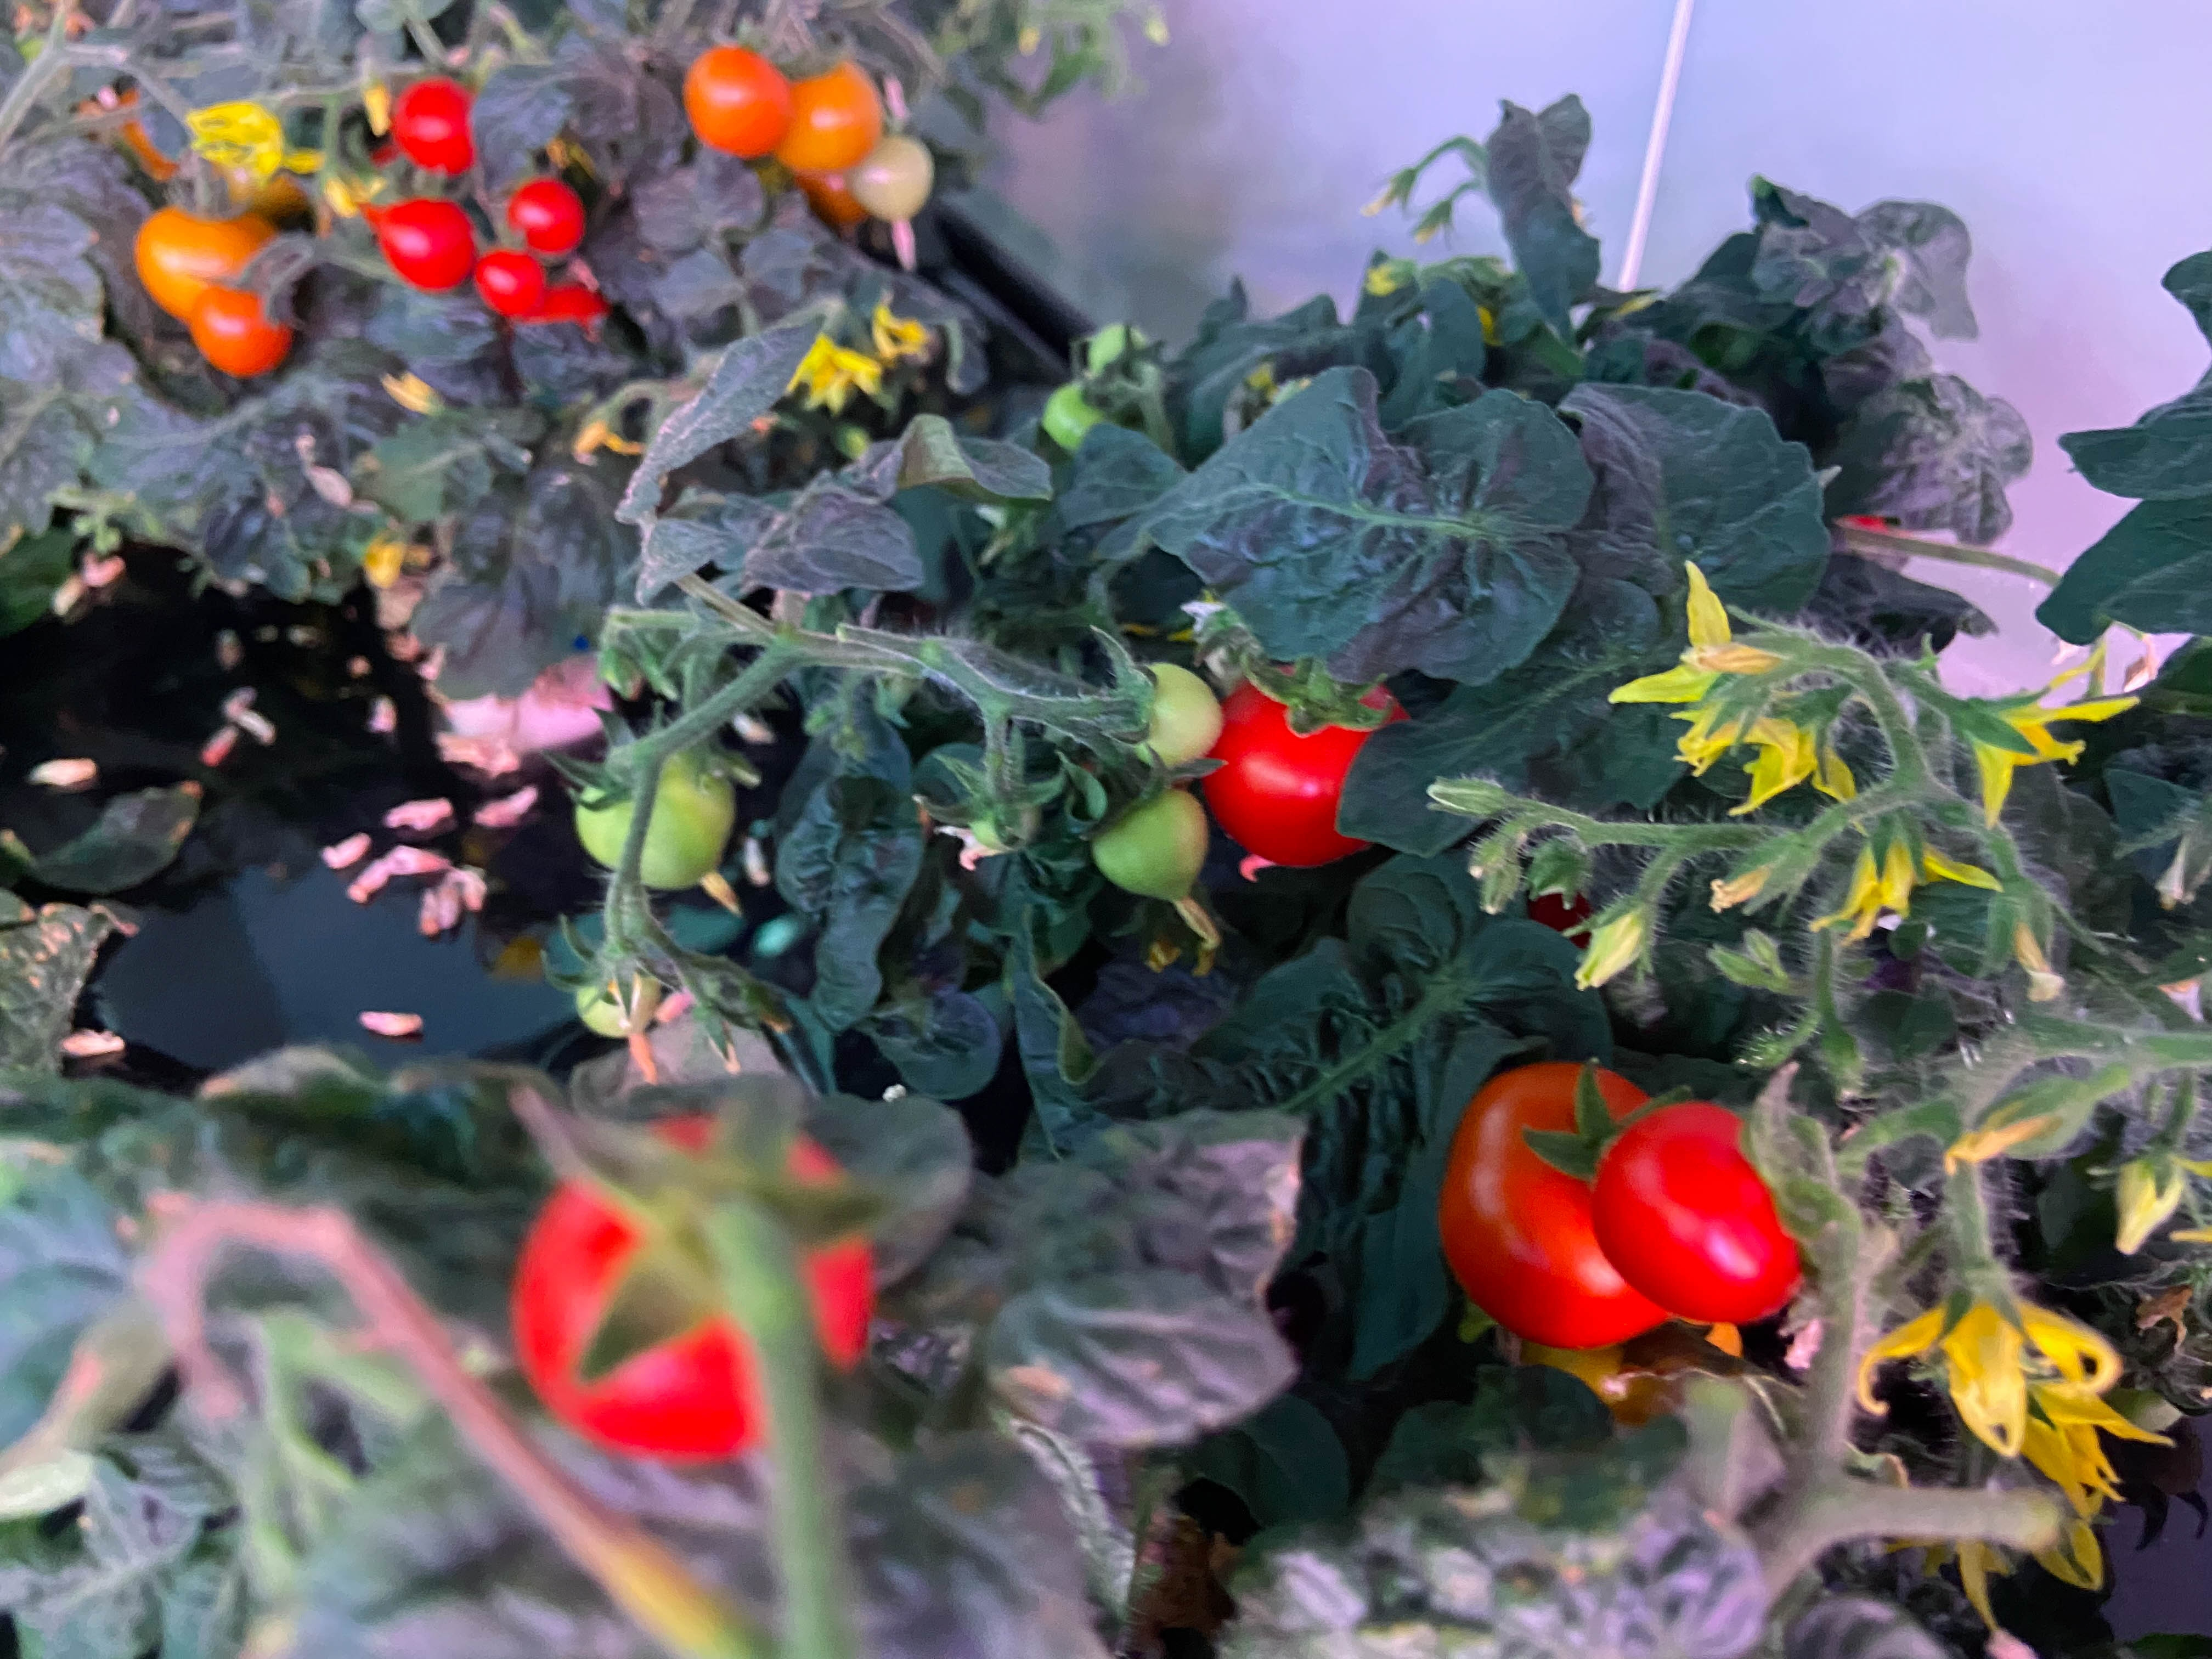green: (573, 735, 740, 890), (1090, 782, 1211, 899), (1118, 657, 1228, 774), (568, 948, 667, 1040), (843, 132, 935, 223), (948, 777, 1029, 854), (1042, 380, 1104, 450), (1087, 319, 1155, 380)
red: (514, 1115, 873, 1467), (1442, 1058, 1684, 1347), (1601, 1091, 1808, 1323), (1202, 671, 1400, 866), (136, 206, 268, 312), (685, 42, 791, 157), (773, 64, 883, 173), (489, 179, 575, 312), (376, 192, 475, 291), (192, 286, 291, 378), (395, 70, 482, 173), (1838, 479, 1923, 566), (503, 176, 583, 254), (475, 247, 550, 322), (529, 281, 606, 335), (815, 169, 878, 227)
